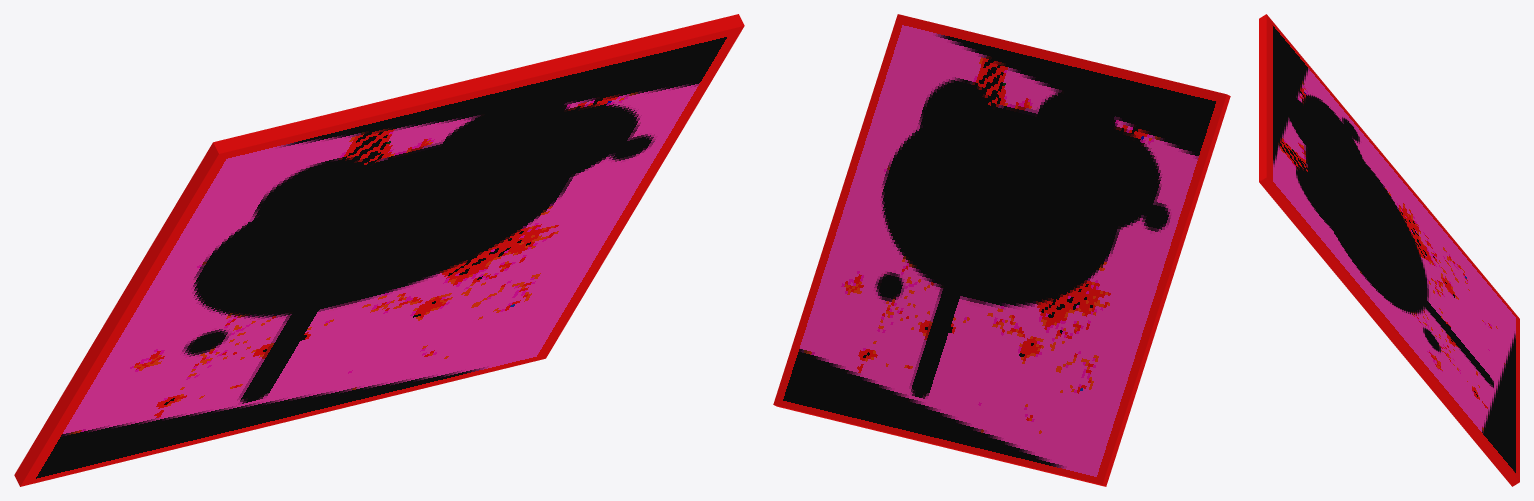
The model's file is ps2_save-icons_tonyhawksamericanwasteland-graphic.glb.
3 views of the same model, side by side, from view 1: azimuth 30°, elevation 25°; view 2: azimuth 150°, elevation 25°; view 3: azimuth 270°, elevation 25° (orthographic). The views are drawn at different scales.
Parts seen in each view (by area): view 1: grafitti.ico; view 2: grafitti.ico; view 3: grafitti.ico.
Part boxes in pixels (x1,y1,x2,y2): grafitti.ico: (14,14,744,486); grafitti.ico: (773,14,1230,486); grafitti.ico: (1259,14,1519,486).
Bounding box in the file's own units: 3.22 × 2.84 × 2.17.
Materials: 1 (1 with a texture image).
